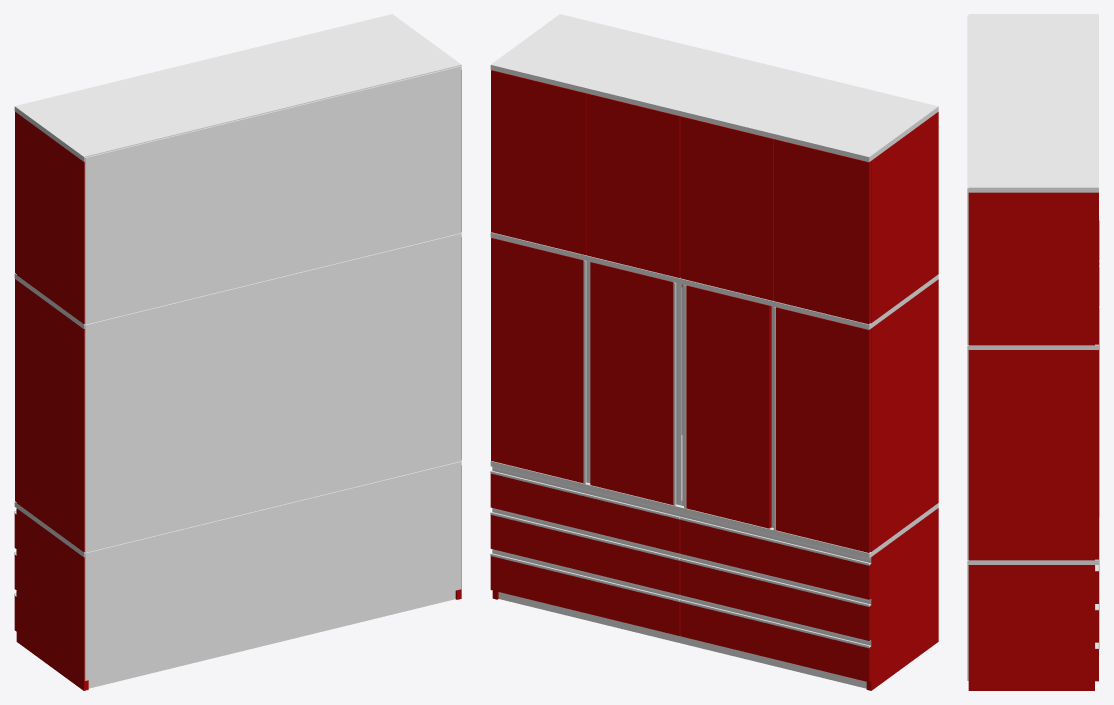
The picture shows the model from 3 angles, left to right: view 1: azimuth 30°, elevation 25°; view 2: azimuth 150°, elevation 25°; view 3: azimuth 270°, elevation 25°; orthographic projection. The views are drawn at different scales.
Parts seen in each view (by area): view 1: mesh120_mesh120-geometry, mesh140_mesh140-geometry, mesh3_mesh3-geometry, mesh130_mesh130-geometry, mesh112_mesh112-geometry, mesh128_mesh128-geometry, mesh80_mesh80-geometry, mesh82_mesh82-geometry, mesh55_mesh55-geometry, mesh98_mesh98-geometry; view 2: mesh130_mesh130-geometry, mesh88_mesh88-geometry, mesh116_mesh116-geometry, mesh106_mesh106-geometry, mesh118_mesh118-geometry, mesh148_mesh148-geometry, mesh142_mesh142-geometry, mesh144_mesh144-geometry, mesh146_mesh146-geometry, mesh112_mesh112-geometry, mesh128_mesh128-geometry, mesh80_mesh80-geometry (+13 smaller); view 3: mesh110_mesh110-geometry, mesh130_mesh130-geometry, mesh126_mesh126-geometry, mesh41_mesh41-geometry, mesh116_mesh116-geometry, mesh140_mesh140-geometry, mesh55_mesh55-geometry, mesh98_mesh98-geometry, mesh142_mesh142-geometry, mesh120_mesh120-geometry, mesh124_mesh124-geometry, mesh3_mesh3-geometry.
Part boxes in pixels (x1=…): mesh120_mesh120-geometry: x1=84, y1=233, x2=461, y2=552; mesh140_mesh140-geometry: x1=84, y1=66, x2=461, y2=324; mesh3_mesh3-geometry: x1=84, y1=461, x2=461, y2=680; mesh130_mesh130-geometry: x1=14, y1=14, x2=461, y2=161; mesh112_mesh112-geometry: x1=16, y1=280, x2=84, y2=551; mesh128_mesh128-geometry: x1=16, y1=113, x2=84, y2=323; mesh80_mesh80-geometry: x1=16, y1=508, x2=88, y2=690; mesh82_mesh82-geometry: x1=88, y1=590, x2=455, y2=688; mesh55_mesh55-geometry: x1=14, y1=460, x2=461, y2=557; mesh98_mesh98-geometry: x1=14, y1=232, x2=461, y2=328; mesh130_mesh130-geometry: x1=490, y1=14, x2=938, y2=161; mesh88_mesh88-geometry: x1=776, y1=307, x2=870, y2=552; mesh116_mesh116-geometry: x1=491, y1=238, x2=583, y2=482; mesh106_mesh106-geometry: x1=686, y1=285, x2=771, y2=528; mesh118_mesh118-geometry: x1=590, y1=262, x2=673, y2=504; mesh148_mesh148-geometry: x1=773, y1=139, x2=870, y2=324; mesh142_mesh142-geometry: x1=491, y1=70, x2=586, y2=255; mesh144_mesh144-geometry: x1=586, y1=93, x2=680, y2=277; mesh146_mesh146-geometry: x1=680, y1=116, x2=773, y2=300; mesh112_mesh112-geometry: x1=871, y1=279, x2=938, y2=551; mesh128_mesh128-geometry: x1=871, y1=112, x2=938, y2=323; mesh80_mesh80-geometry: x1=866, y1=508, x2=938, y2=690; mesh110_mesh110-geometry: x1=968, y1=350, x2=1094, y2=560; mesh130_mesh130-geometry: x1=968, y1=14, x2=1098, y2=192; mesh126_mesh126-geometry: x1=968, y1=192, x2=1094, y2=345; mesh41_mesh41-geometry: x1=968, y1=565, x2=1094, y2=690; mesh116_mesh116-geometry: x1=1095, y1=350, x2=1098, y2=559; mesh140_mesh140-geometry: x1=967, y1=15, x2=968, y2=344; mesh55_mesh55-geometry: x1=968, y1=559, x2=1098, y2=564; mesh98_mesh98-geometry: x1=968, y1=344, x2=1098, y2=349; mesh142_mesh142-geometry: x1=1095, y1=192, x2=1098, y2=344; mesh120_mesh120-geometry: x1=967, y1=345, x2=968, y2=559; mesh124_mesh124-geometry: x1=1099, y1=265, x2=1099, y2=517; mesh3_mesh3-geometry: x1=967, y1=560, x2=968, y2=680.
Bounding box in the file's own units: 0.5844 × 0.7894 × 0.1878.
